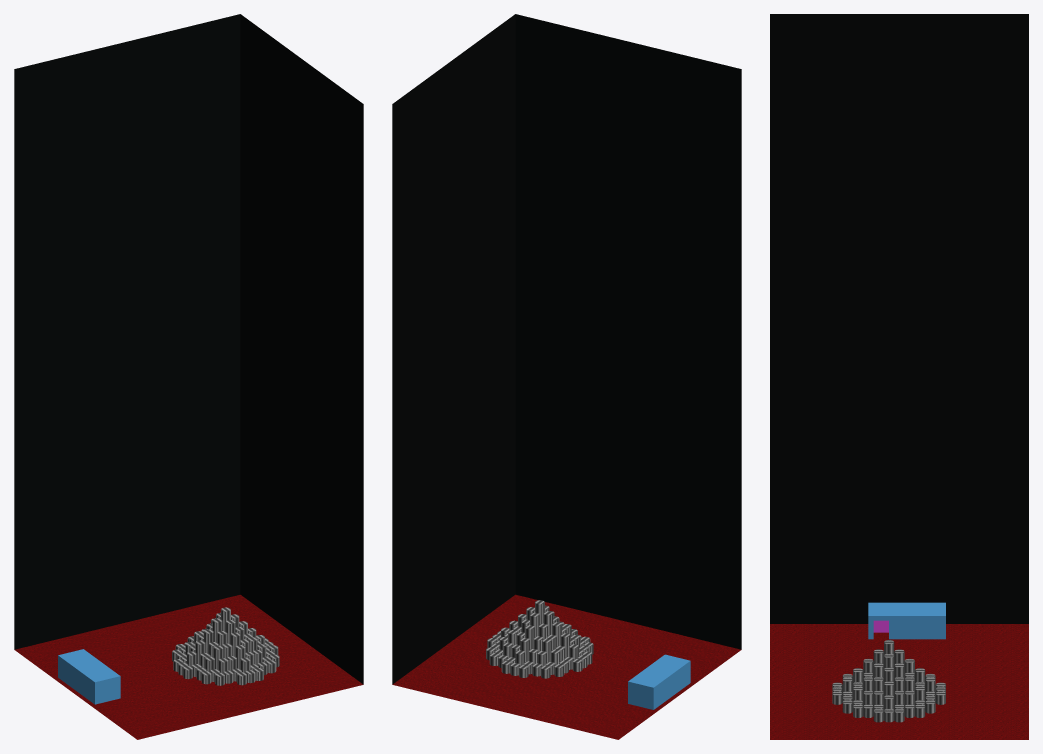
Rendered from level5_visual.gltf.
3 renders of one model, left to right at view 1: azimuth 30°, elevation 25°; view 2: azimuth 150°, elevation 25°; view 3: azimuth 270°, elevation 25°, orthographic. The views are drawn at different scales.
Parts seen in each view (by area): view 1: Level5a_gls.b3d; view 2: Level5a_gls.b3d; view 3: Level5a_gls.b3d.
Boxes of the visible parts, left/top/right/bottom form: Level5a_gls.b3d: left=14, top=14, right=363, bottom=739; Level5a_gls.b3d: left=392, top=14, right=741, bottom=739; Level5a_gls.b3d: left=770, top=14, right=1028, bottom=739.
Bounding box in the file's own units: 26.5 × 65 × 25.
Materials: 5 (5 with a texture image).
